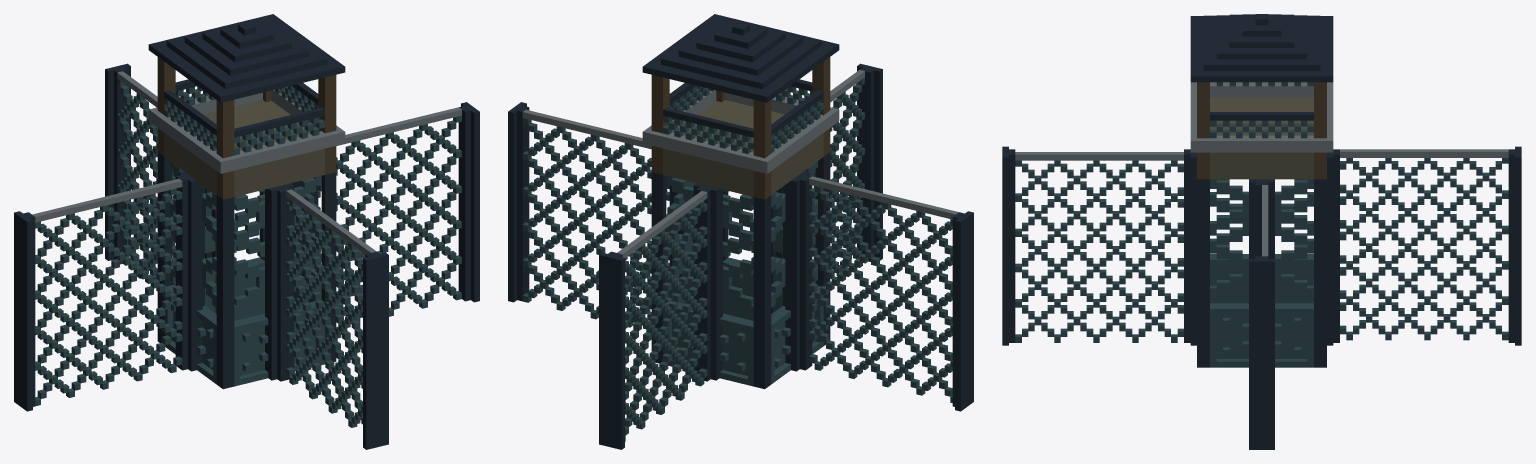
Rendered from wall3_cross.obj.
3 views of the same model, side by side, from view 1: azimuth 30°, elevation 25°; view 2: azimuth 150°, elevation 25°; view 3: azimuth 270°, elevation 25° (orthographic).
Size of the model in its own units: 8 by 5.5 by 8.
1 material, 1 textured.
